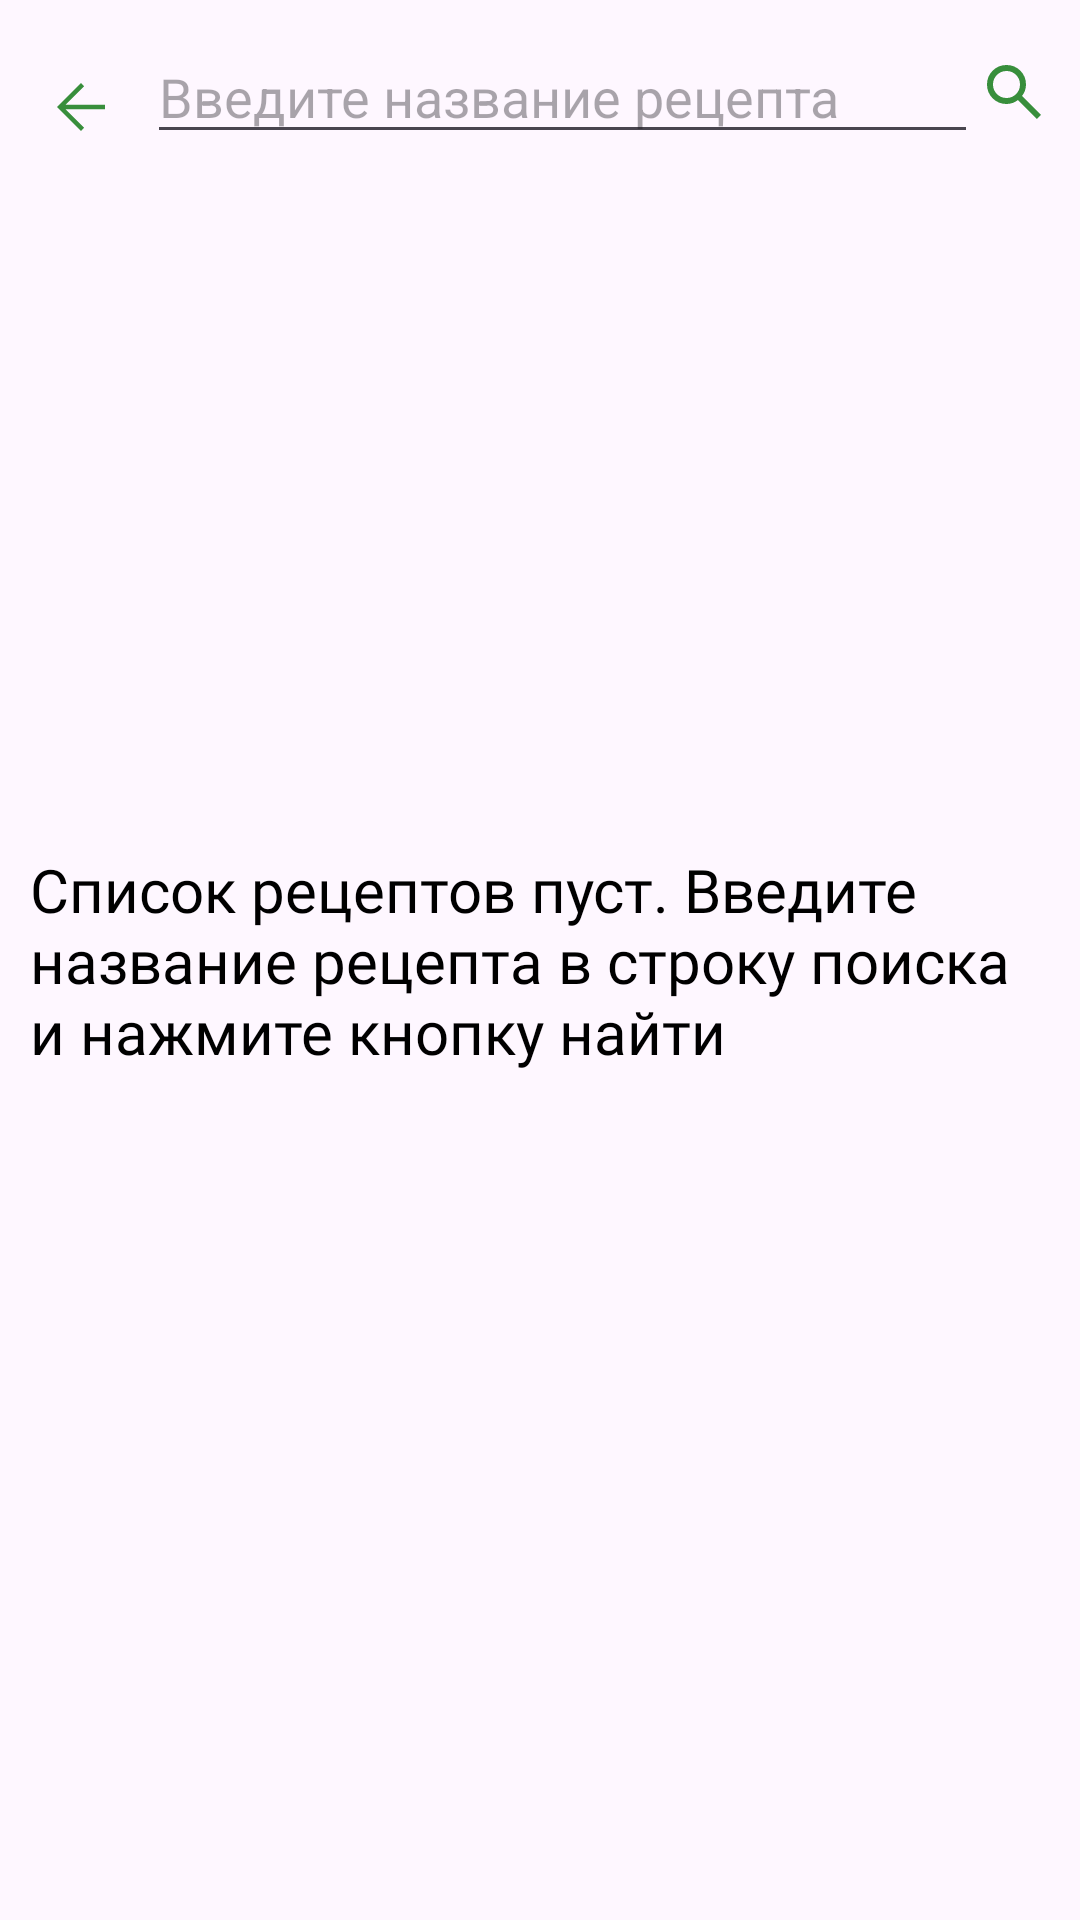

Icon click points for this 1080px x 1920px phone screenshot, format (x=x, y=y):
Назад: (x=81, y=107)
Найти рецепт: (x=1014, y=92)
